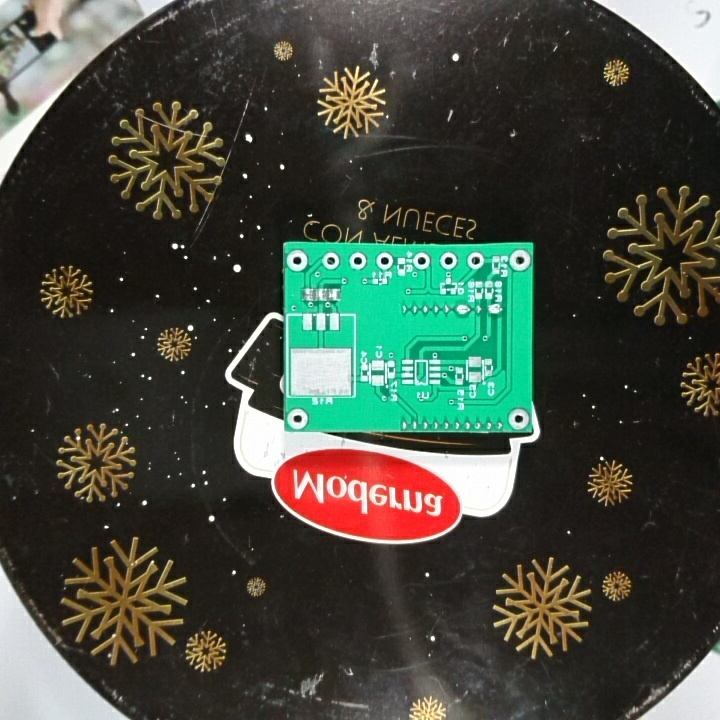F: (284, 246, 311, 274), (285, 406, 311, 431), (508, 248, 532, 273), (505, 407, 530, 429), (465, 249, 487, 272), (437, 251, 459, 272), (346, 251, 370, 270), (320, 249, 342, 269), (411, 252, 433, 270), (374, 251, 394, 270)
P: (485, 301, 506, 320), (454, 301, 474, 319)
